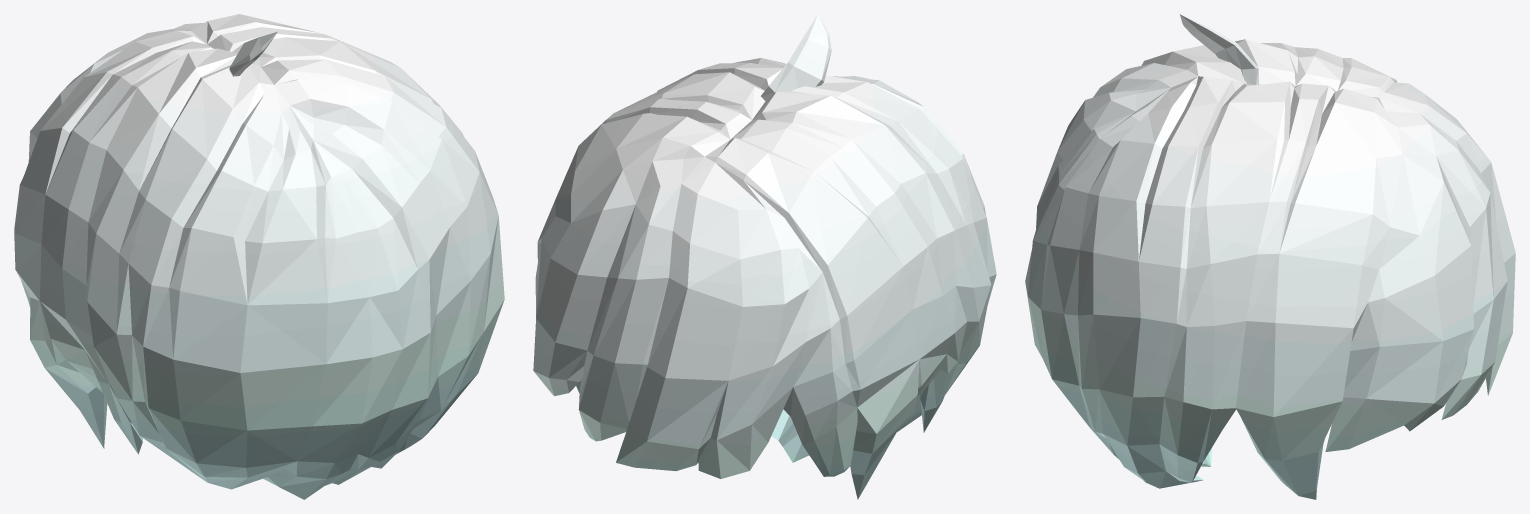
Rendered from CharSkyKid_Hair_AP07BowlCut_01.glb.
3 views of the same model, side by side, from view 1: azimuth 30°, elevation 25°; view 2: azimuth 150°, elevation 25°; view 3: azimuth 270°, elevation 25° (orthographic). The views are drawn at different scales.
Visible parts, largest first — view 1: CharSkyKid_Hair_AP07BowlCut_01; view 2: CharSkyKid_Hair_AP07BowlCut_01; view 3: CharSkyKid_Hair_AP07BowlCut_01.
Boxes of the visible parts, x1,y1,x2,y2 form: CharSkyKid_Hair_AP07BowlCut_01: (14, 14, 504, 499); CharSkyKid_Hair_AP07BowlCut_01: (533, 14, 996, 499); CharSkyKid_Hair_AP07BowlCut_01: (1025, 14, 1515, 499).
Bounding box in the file's own units: 3.07 × 3.32 × 3.29.
1 material, 1 textured.
